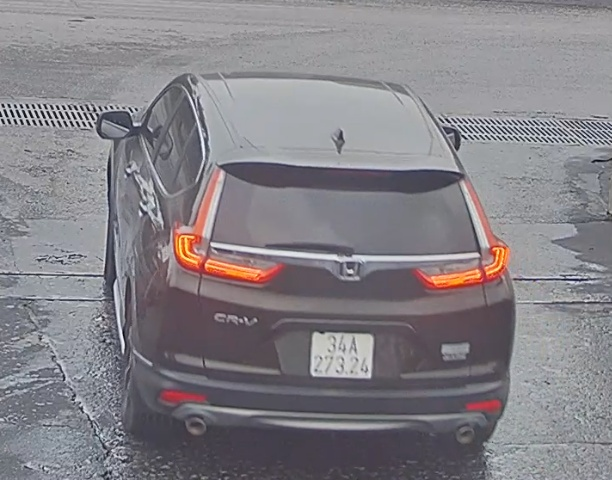vehicle plate: (303, 328, 381, 382)
